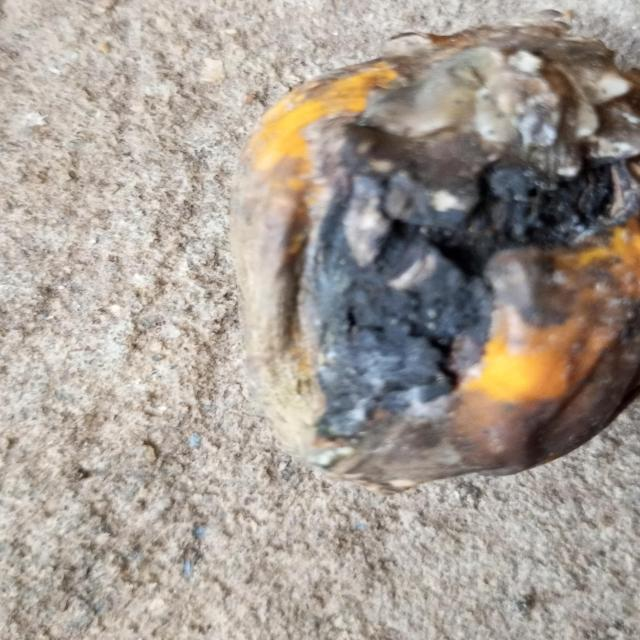damaged: (228, 21, 640, 496)
